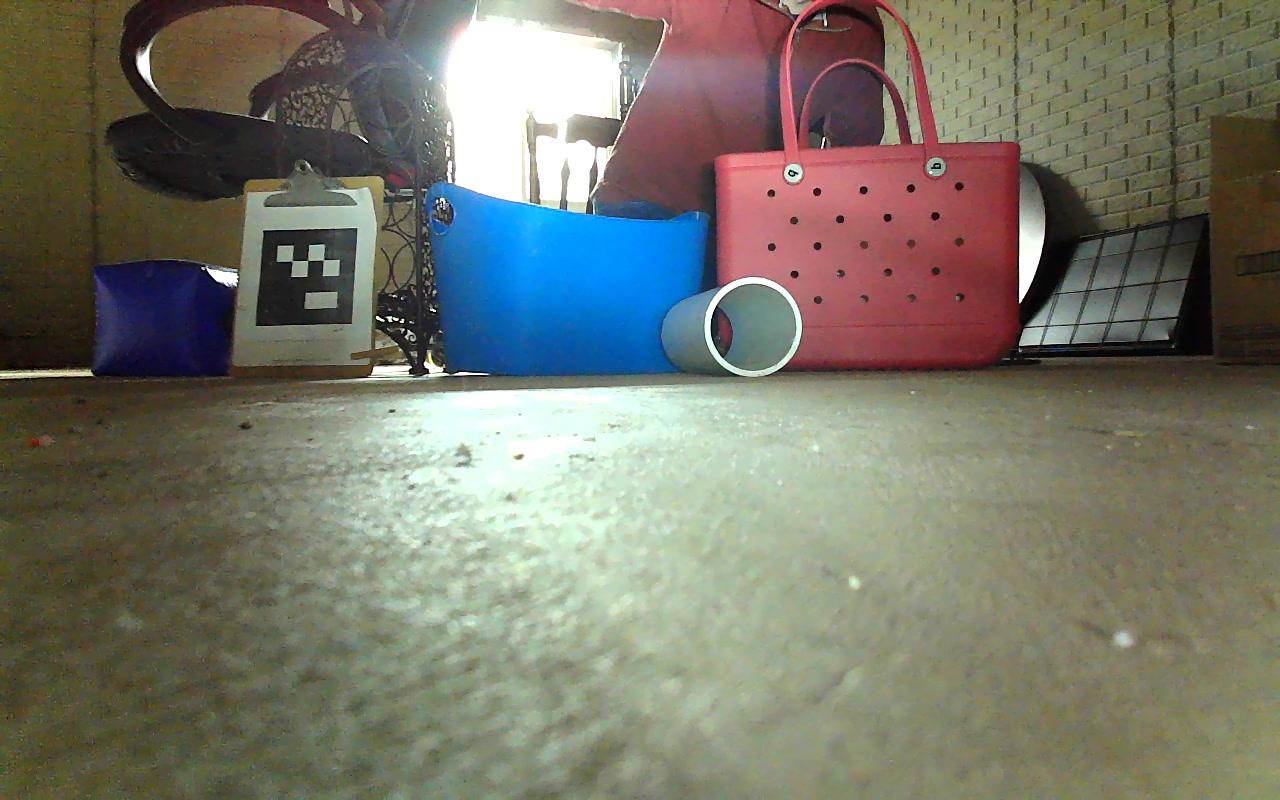coral: (660, 275, 800, 376)
